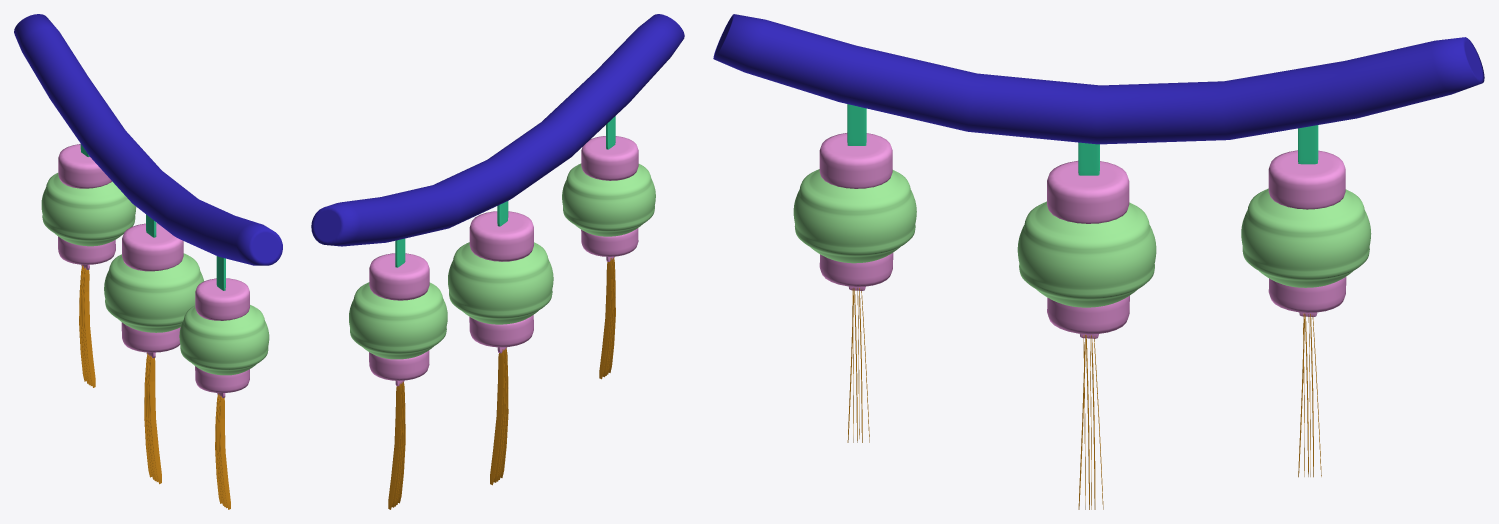
Rendered from LanternsSeperated2.fbx.
The picture shows the model from 3 angles, left to right: view 1: azimuth 30°, elevation 25°; view 2: azimuth 150°, elevation 25°; view 3: azimuth 270°, elevation 25°; orthographic projection. The views are drawn at different scales.
Parts seen in each view (by area): view 1: Sphere004; view 2: Sphere004; view 3: Sphere004.
Part boxes in pixels (x1,y1,x2,y2): Sphere004: (14, 14, 282, 509); Sphere004: (311, 14, 684, 509); Sphere004: (713, 14, 1484, 509).
Size of the model in its own units: 48.23 by 148 by 214.
